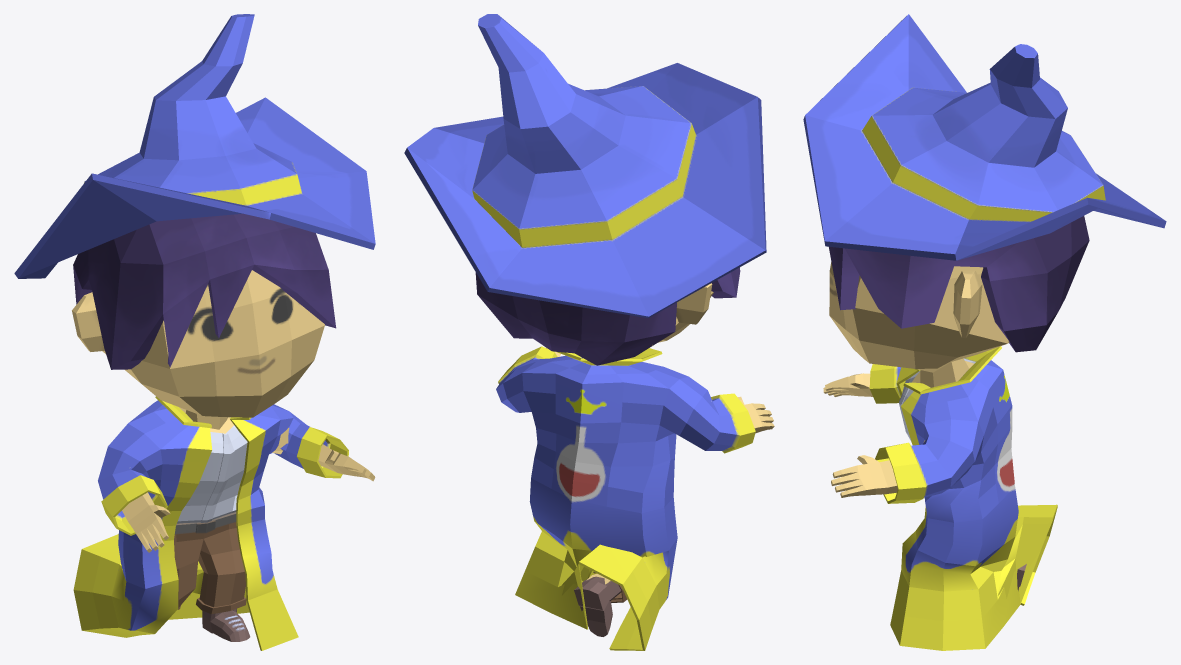
File: animation fixed 3.fbx
The picture shows the model from 3 angles, left to right: view 1: azimuth 30°, elevation 25°; view 2: azimuth 150°, elevation 25°; view 3: azimuth 270°, elevation 25°; orthographic projection. The views are drawn at different scales.
Parts seen in each view (by area): view 1: Wizard hat, Cloak, Hair, Body, Pants, Shirt, Shoes; view 2: Wizard hat, Cloak, Hair, Body, Shoes; view 3: Wizard hat, Cloak, Hair, Body.
Boxes of the visible parts, x1,y1,x2,y2 form: Wizard hat: (14, 14, 375, 278); Cloak: (73, 396, 348, 650); Hair: (73, 213, 336, 369); Body: (72, 270, 375, 552); Pants: (174, 512, 246, 614); Shirt: (130, 425, 247, 523); Shoes: (202, 608, 250, 641); Wizard hat: (404, 14, 766, 318); Cloak: (496, 346, 755, 650); Hair: (475, 267, 740, 365); Body: (546, 283, 774, 584); Shoes: (574, 576, 621, 636); Wizard hat: (803, 14, 1166, 260); Cloak: (869, 346, 1057, 650); Hair: (829, 216, 1089, 352); Body: (823, 262, 1009, 497).
Size of the model in its own units: 311 by 521 by 277.
1 material, 1 textured.
